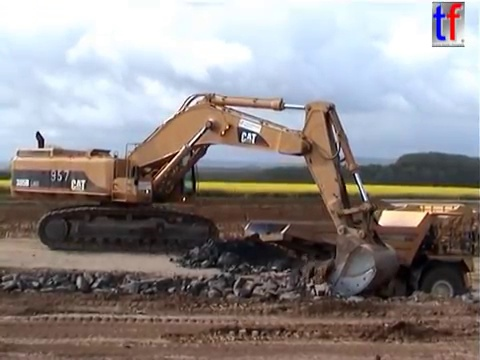excavator: (7, 89, 404, 301)
truck: (241, 200, 480, 321)
